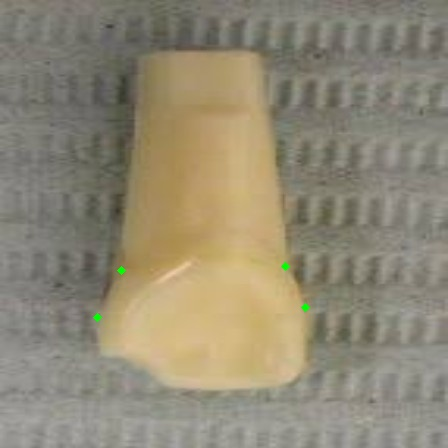coin_1: (121, 270, 141, 290)
coin_2: (97, 317, 117, 337)
coin_3: (285, 266, 305, 286)
coin_4: (305, 307, 325, 327)
